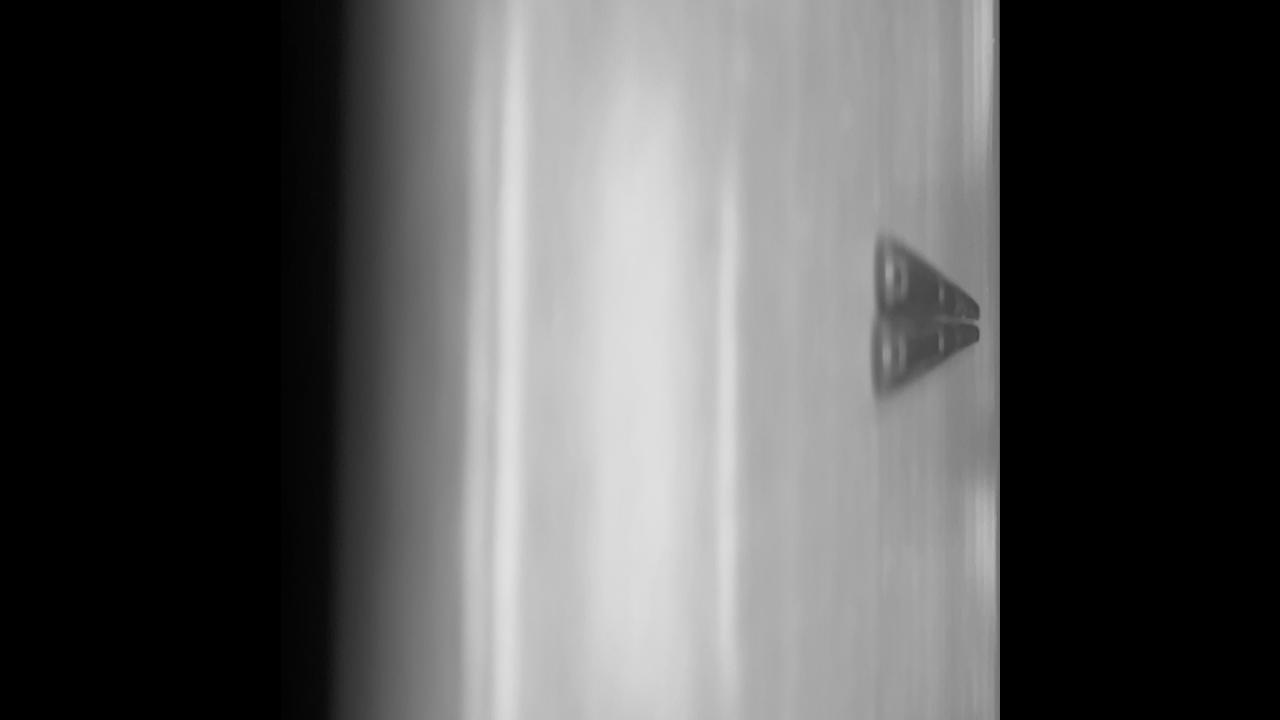chopstick: (869, 230, 977, 402)
